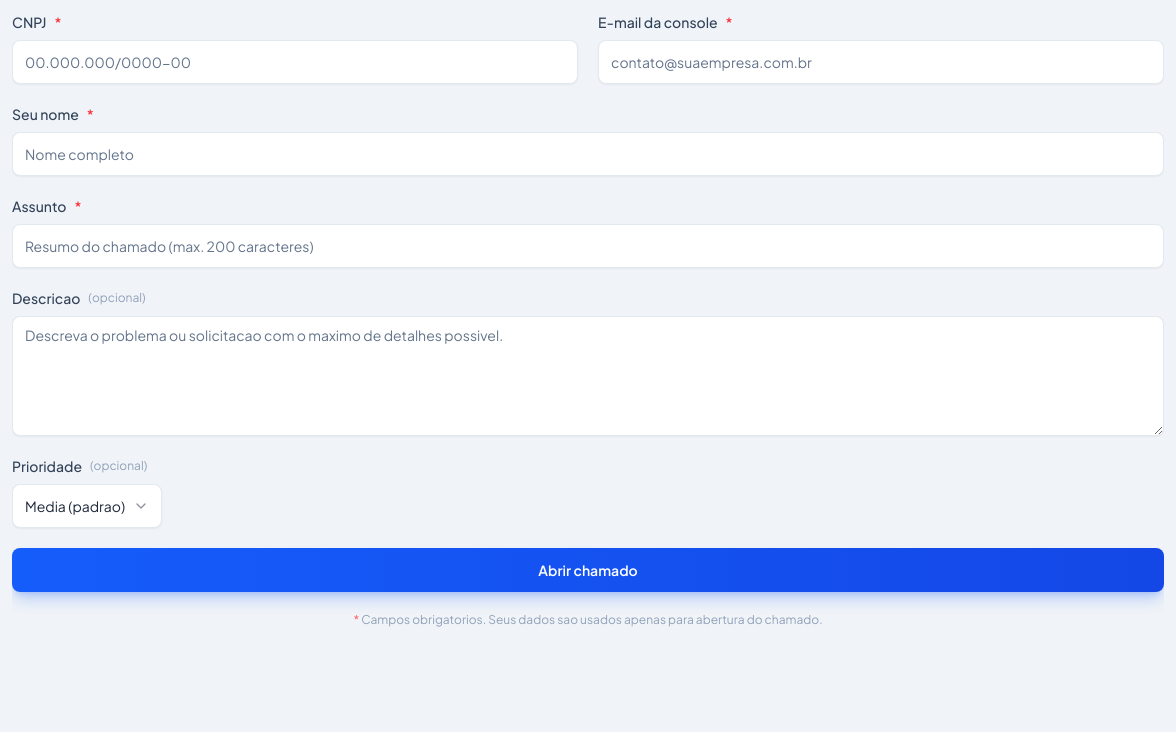
TicketForm › (sad) 429 exibe mensagem de rate limit e MANTEM os campos
Step 1. Type "11222333000181" into the field labelled "CNPJ *" → point(295, 62), box left=12, top=40, right=578, bottom=84
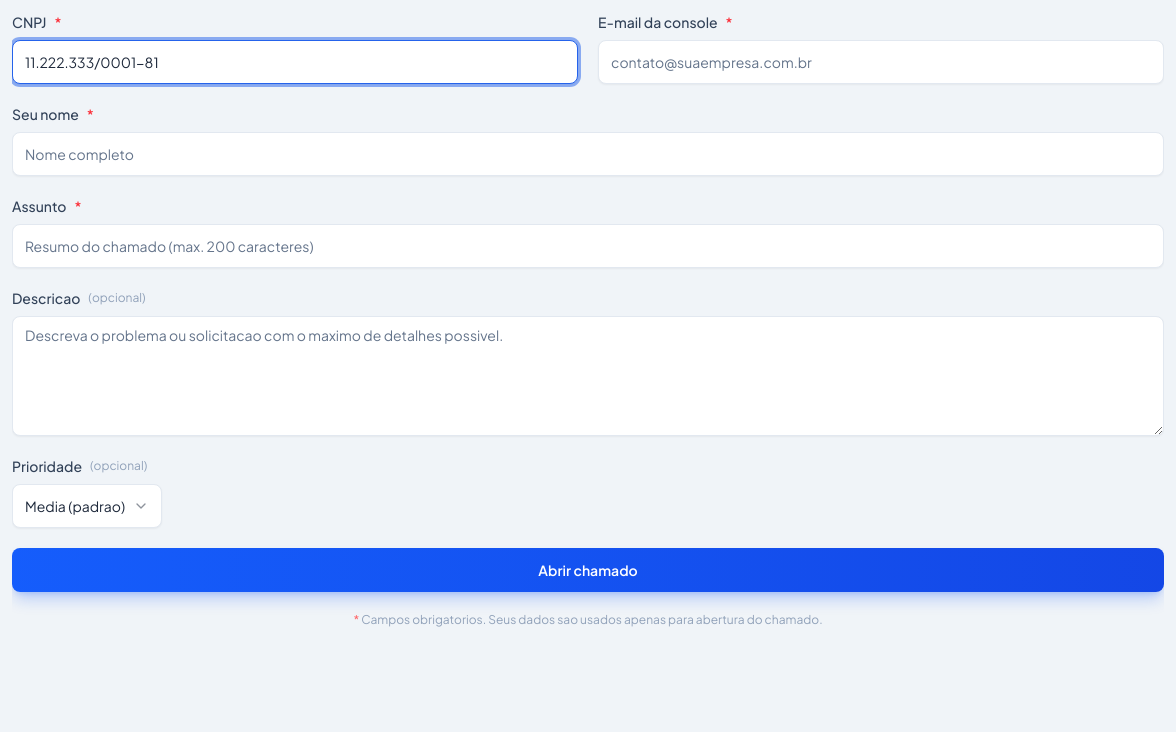
Step 2. Type "contato@empresa.com" into the field labelled "E-mail da console *" → point(881, 62), box left=598, top=40, right=1164, bottom=84
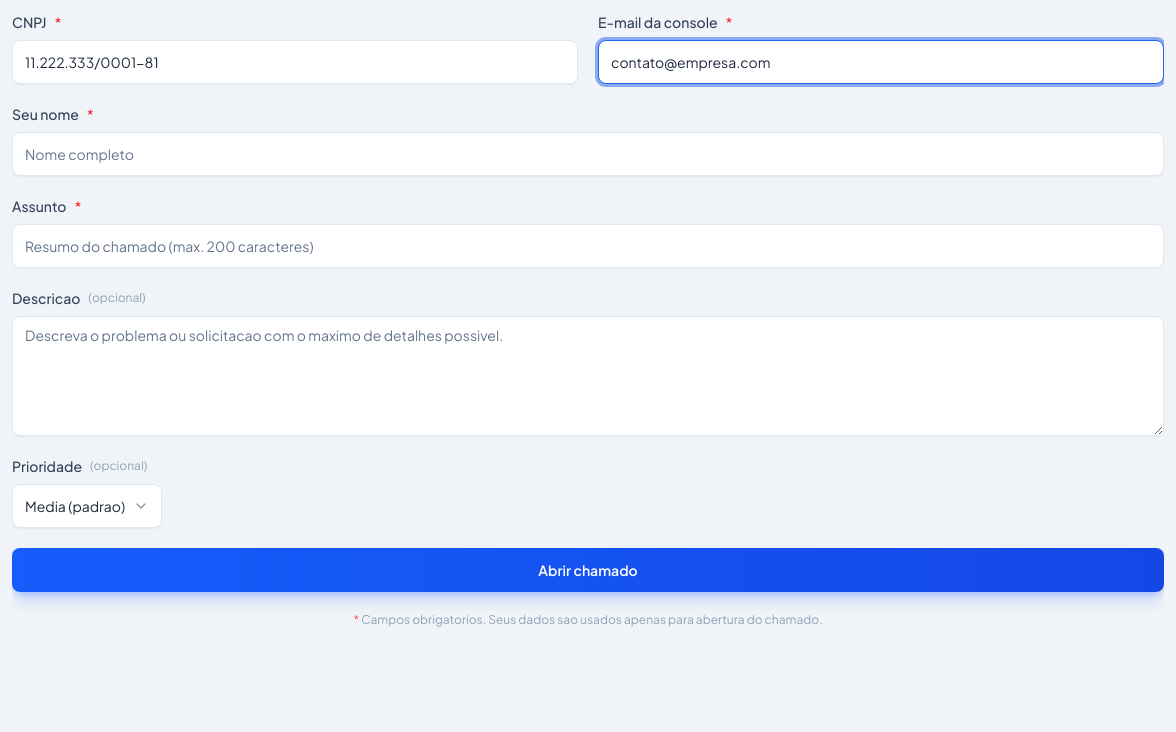
Step 3. Type "Joao Silva" into the field labelled "Seu nome *" → point(588, 154), box left=12, top=132, right=1164, bottom=176
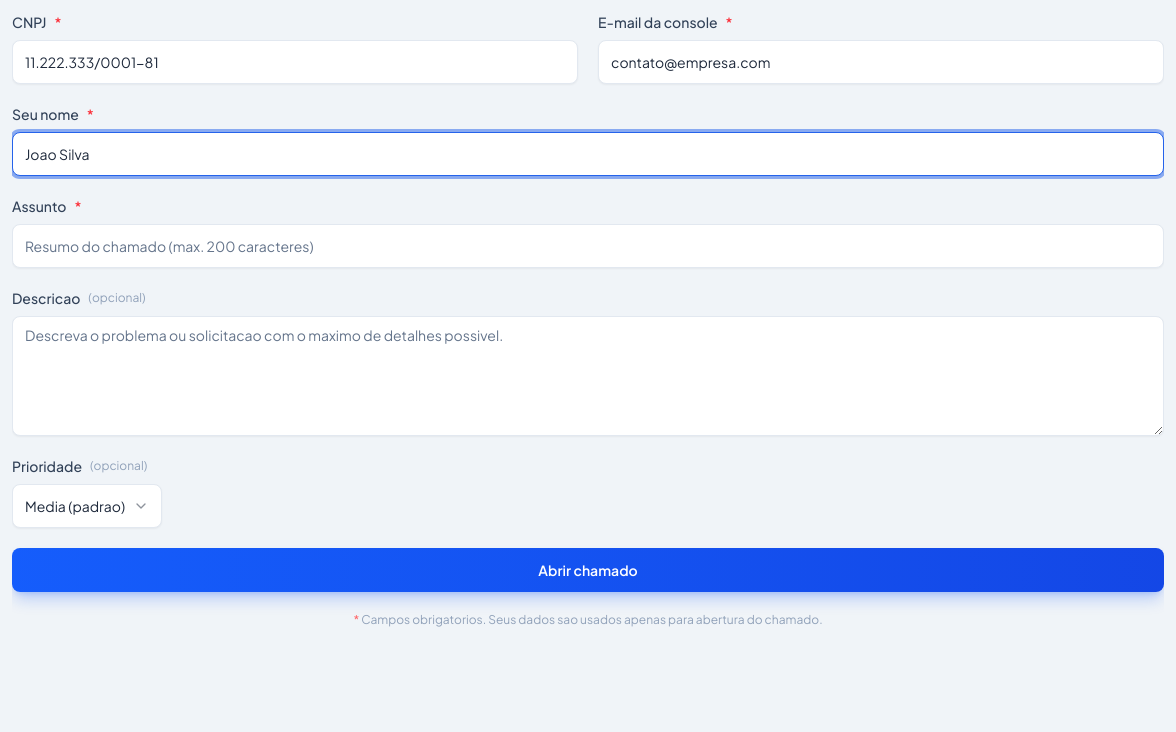
Step 4. Type "Problema de acesso" into the field labelled "Assunto *" → point(588, 246), box left=12, top=224, right=1164, bottom=268
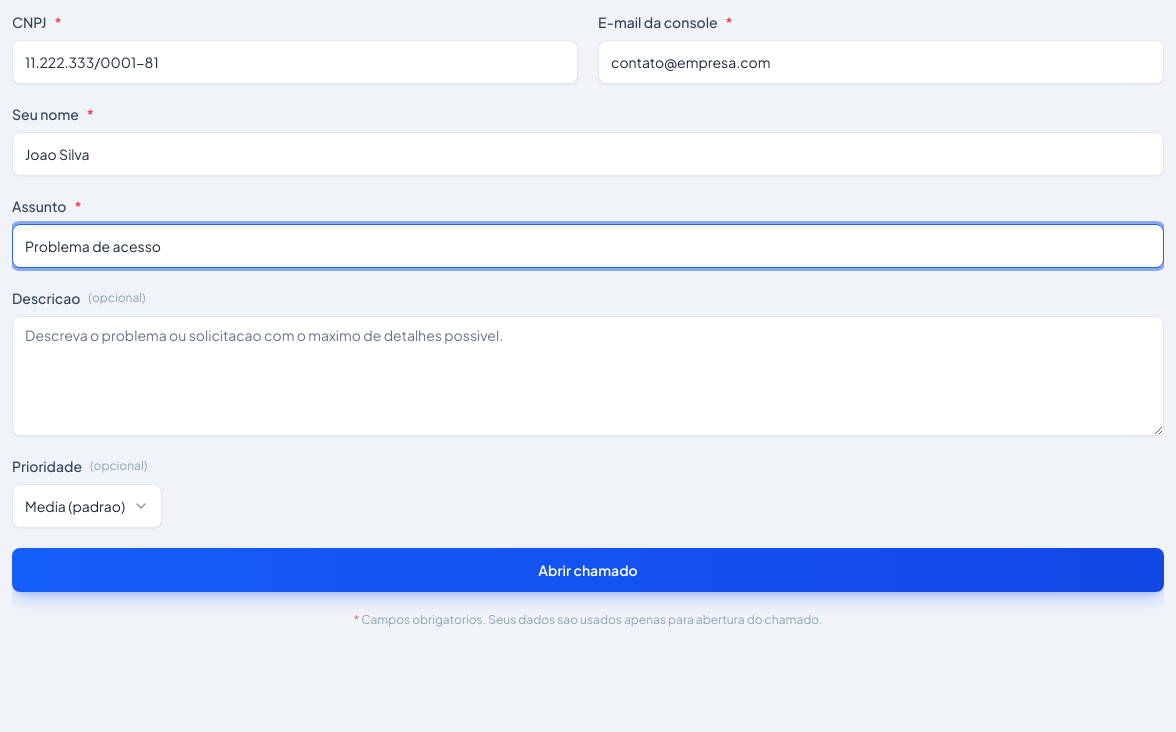
Step 5. Type "Nao consigo acessar o portal." into the text box labelled "Descricao (opcional)" → point(588, 376), box left=12, top=316, right=1164, bottom=436
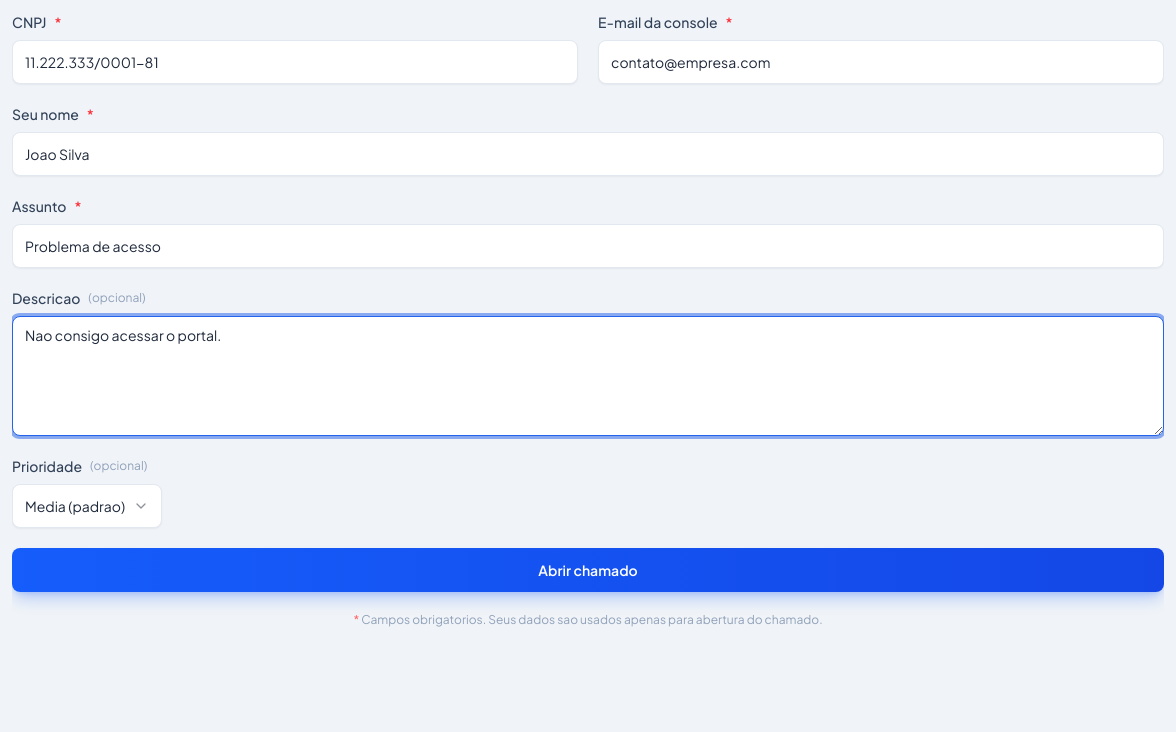
Step 6. Click the button "Abrir chamado" → point(588, 570), box left=12, top=548, right=1164, bottom=592
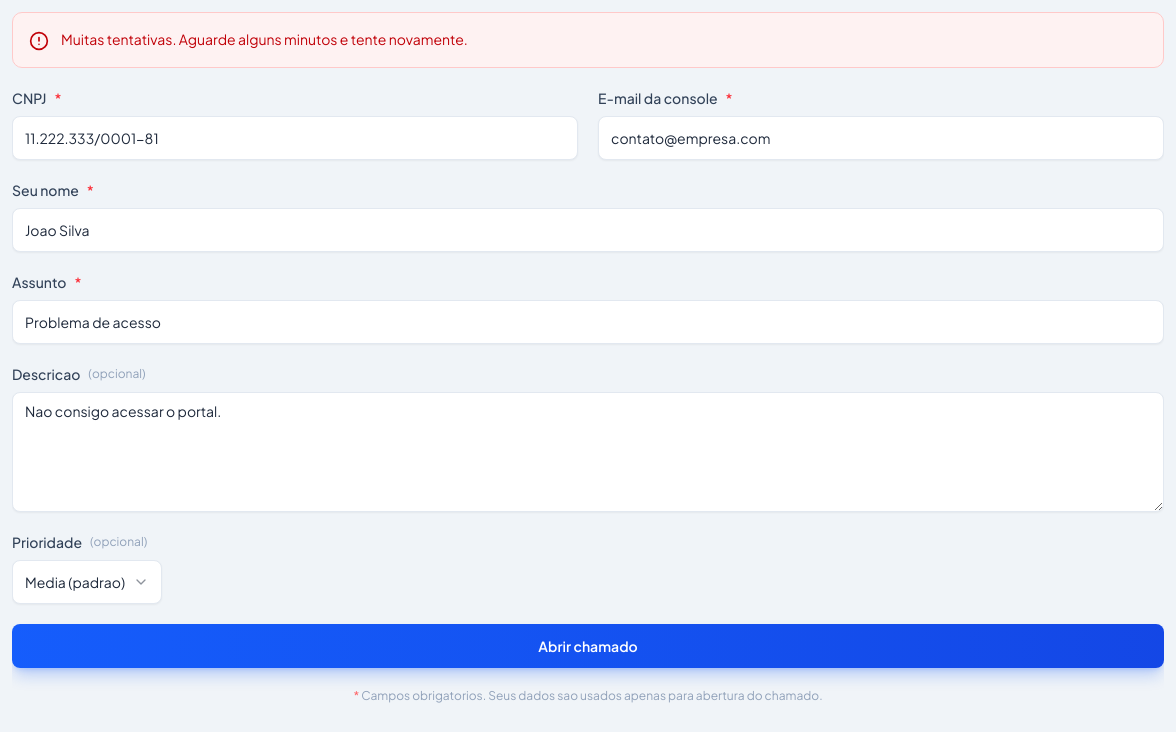
Result: the message "Muitas tentativas. Aguarde alguns minutos e tente novamente." is shown at left=12, top=12, right=1164, bottom=68
Result: the text "Muitas tentativas. Aguarde alguns minutos e tente novamente." is shown at left=61, top=29, right=468, bottom=49
